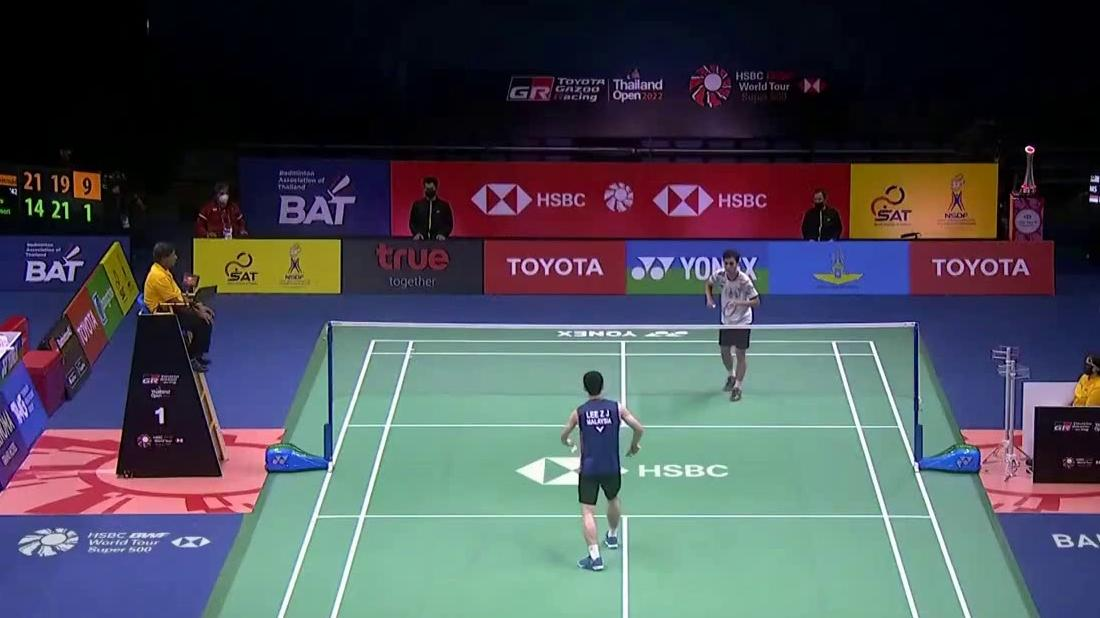racket: (711, 301, 737, 318)
shuttle: (570, 445, 578, 454)
